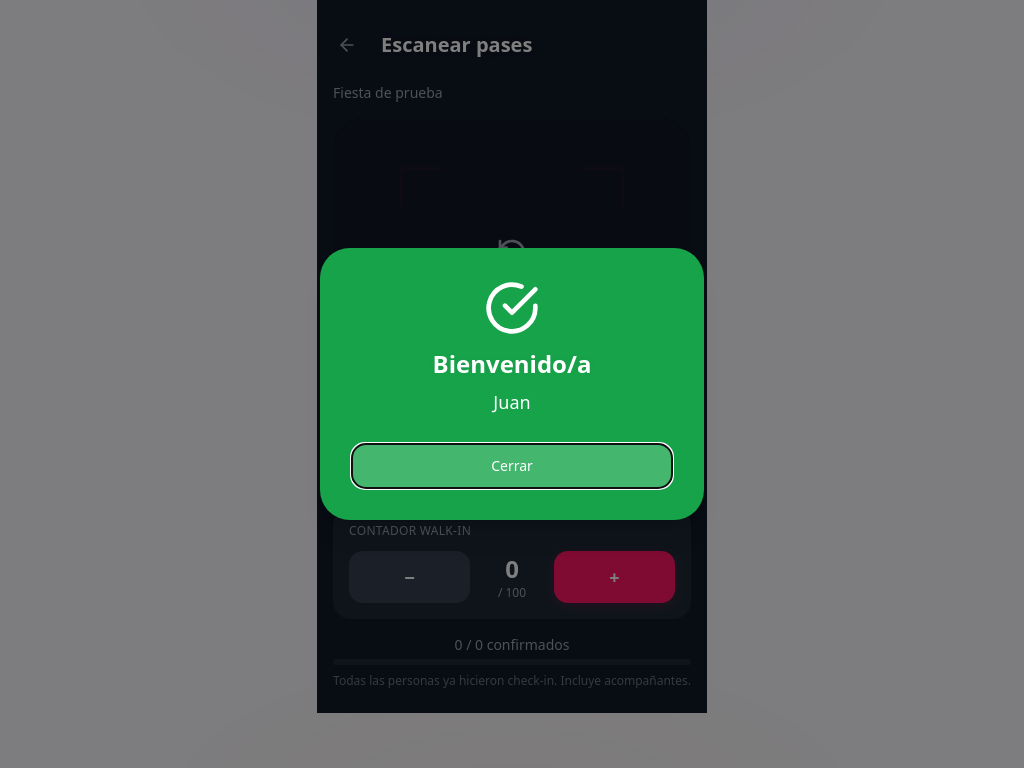
Test case: Scanner — pantalla de resultado › el check-in exitoso permanece visible sin importar cuánto tiempo pase, hasta presionar "Cerrar"
Expected: the dialog is shown, [320,248,704,520]
Expected: the text "Juan" is shown, [493,390,531,414]
Click the button "Cerrar" at (512, 466), box [352,444,672,488]
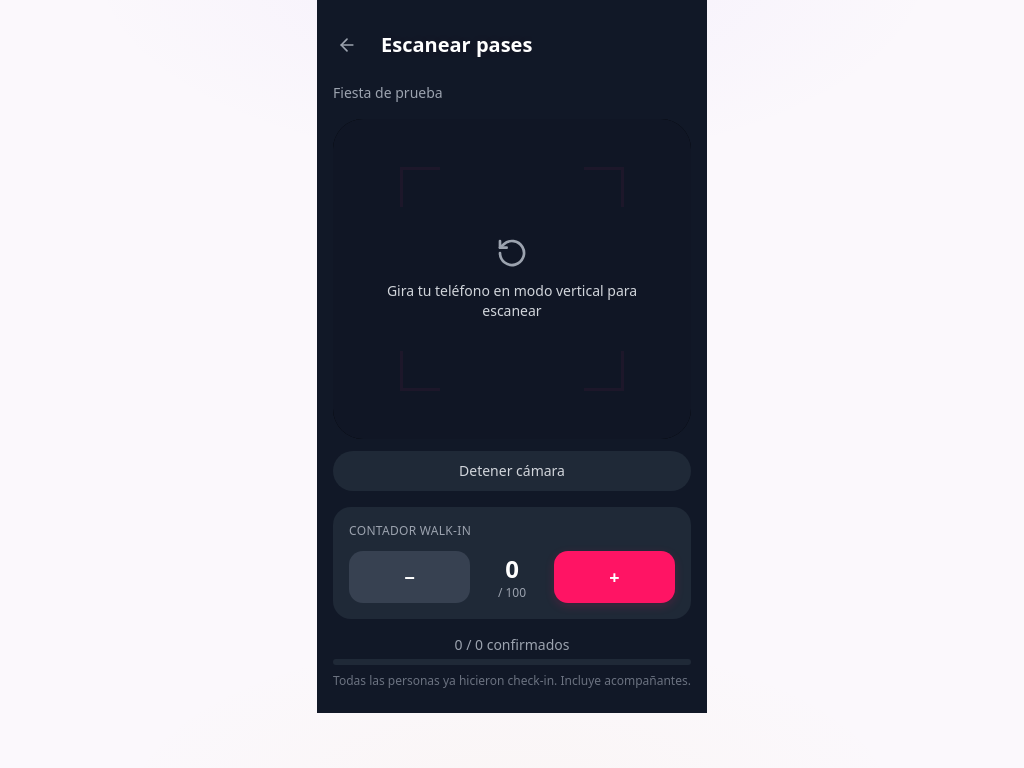
Now the dialog is gone
